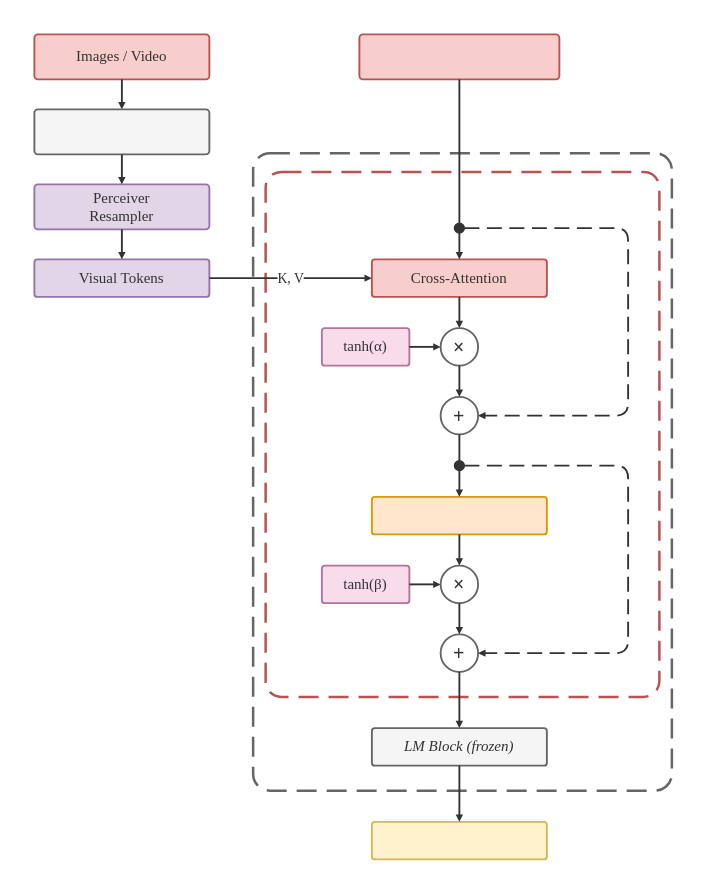
Image size: 705x893. Some labels were removed from this diagram. Each missing label, with the box of its shape:
Dense (FFW): (370, 495, 547, 535)
Gated XATTN-Dense: (264, 170, 660, 698)
Interleaved Text (with <image> tags): (358, 33, 560, 80)
Next-Token Prediction: (370, 820, 547, 860)
Vision Encoder (frozen): (33, 108, 210, 155)
× N: (251, 151, 672, 791)
